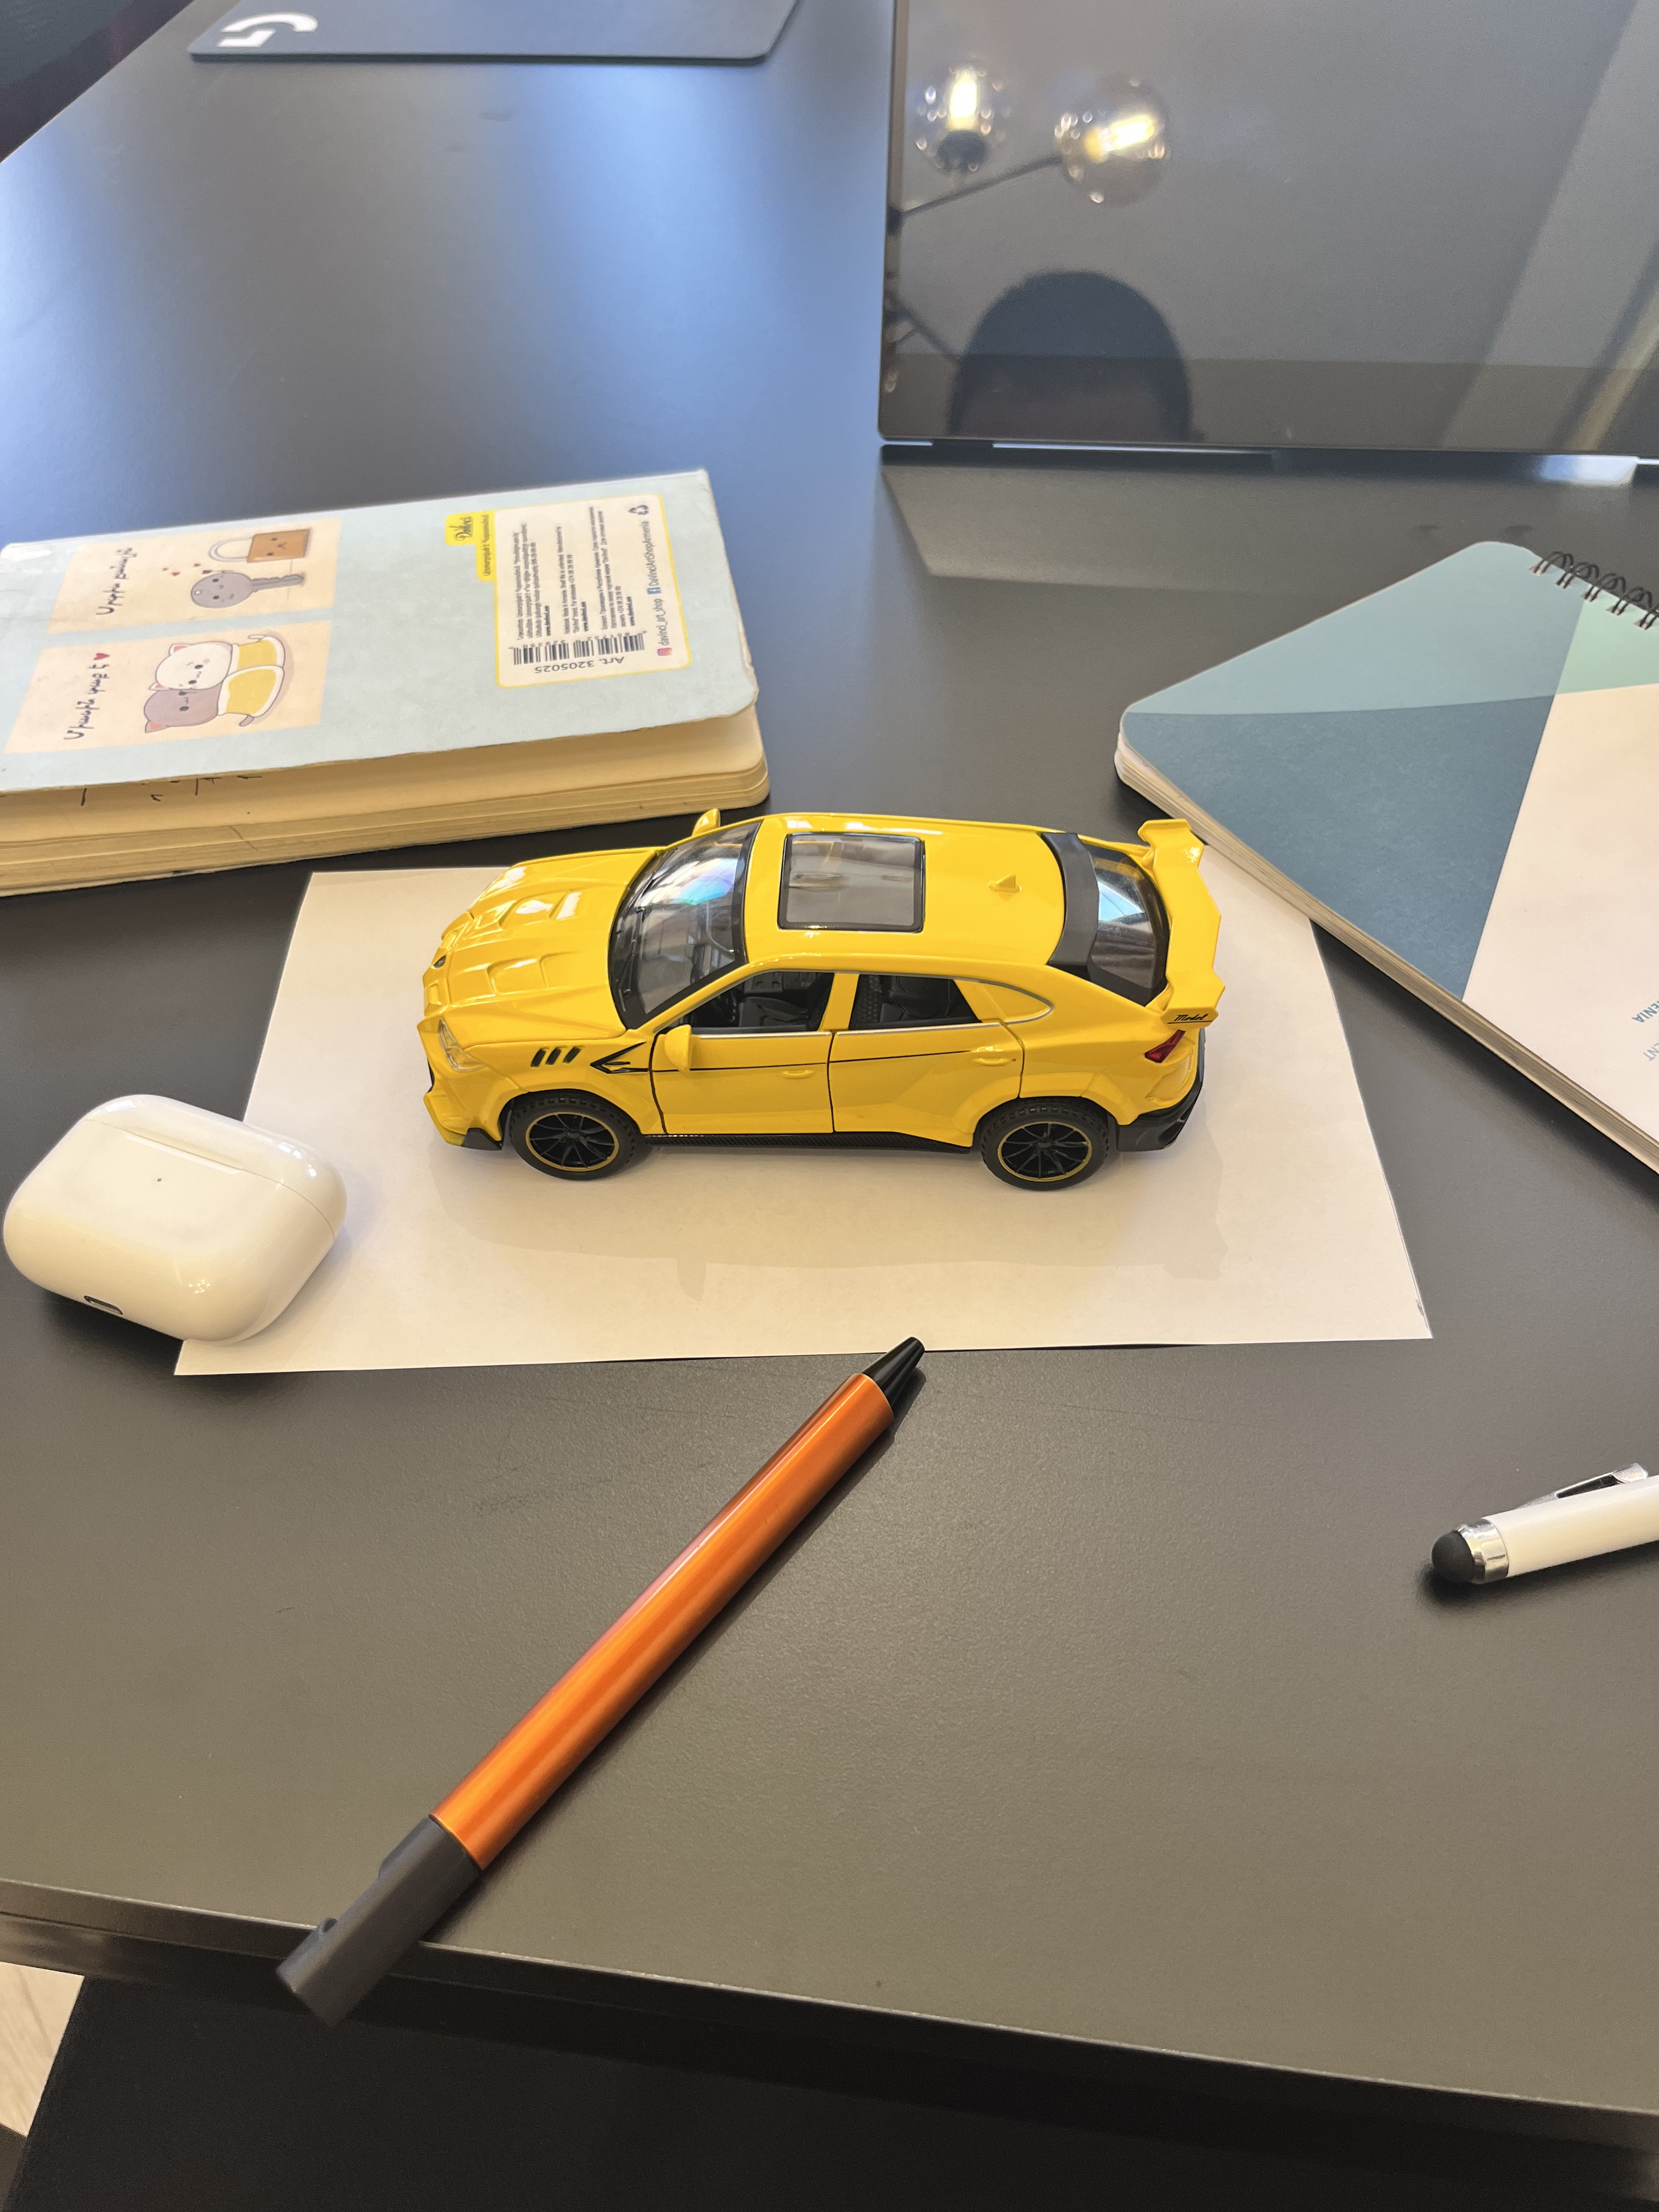lambo: (413, 803, 1220, 1190)
